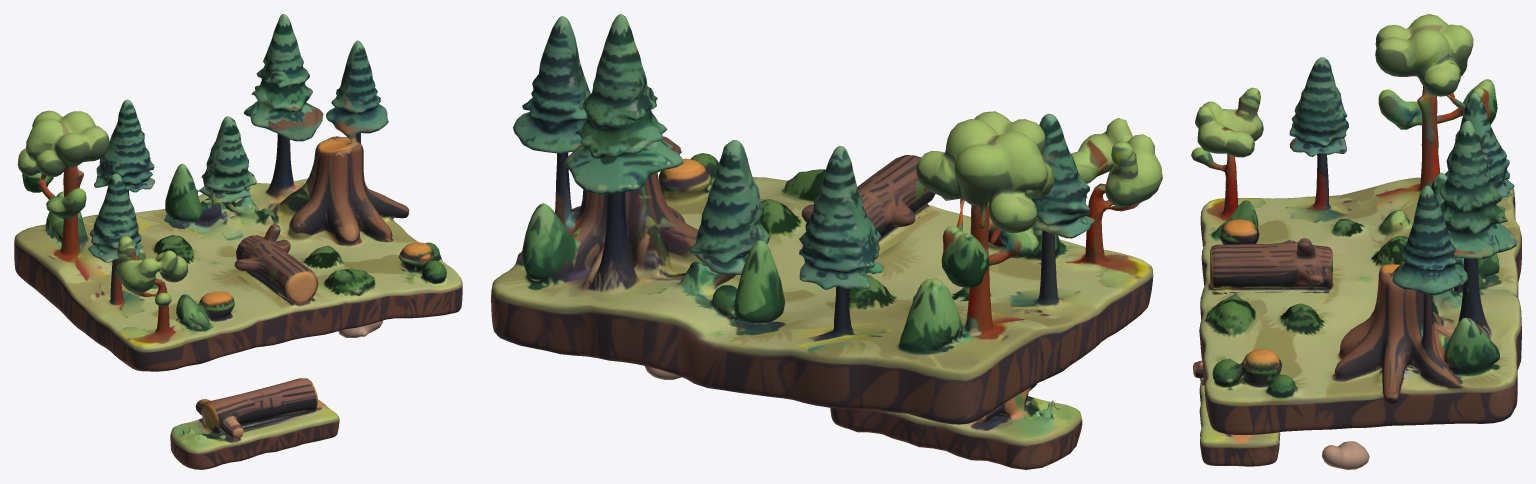
Rendered from Desforestation1.glb.
3 renders of one model, left to right at view 1: azimuth 30°, elevation 25°; view 2: azimuth 150°, elevation 25°; view 3: azimuth 270°, elevation 25°, orthographic. The views are drawn at different scales.
Visible parts, largest first — view 1: tripo_node_09c257df-f57b-4ff1-9a26-2f2303c24f8c; view 2: tripo_node_09c257df-f57b-4ff1-9a26-2f2303c24f8c; view 3: tripo_node_09c257df-f57b-4ff1-9a26-2f2303c24f8c.
Boxes of the visible parts, bbox=[...] form: tripo_node_09c257df-f57b-4ff1-9a26-2f2303c24f8c: bbox=[14, 14, 462, 469]; tripo_node_09c257df-f57b-4ff1-9a26-2f2303c24f8c: bbox=[491, 14, 1162, 469]; tripo_node_09c257df-f57b-4ff1-9a26-2f2303c24f8c: bbox=[1191, 14, 1521, 469].
Size of the model in its own units: 0.9459 by 0.8092 by 0.6393.
Materials: 1 (1 with a texture image).
